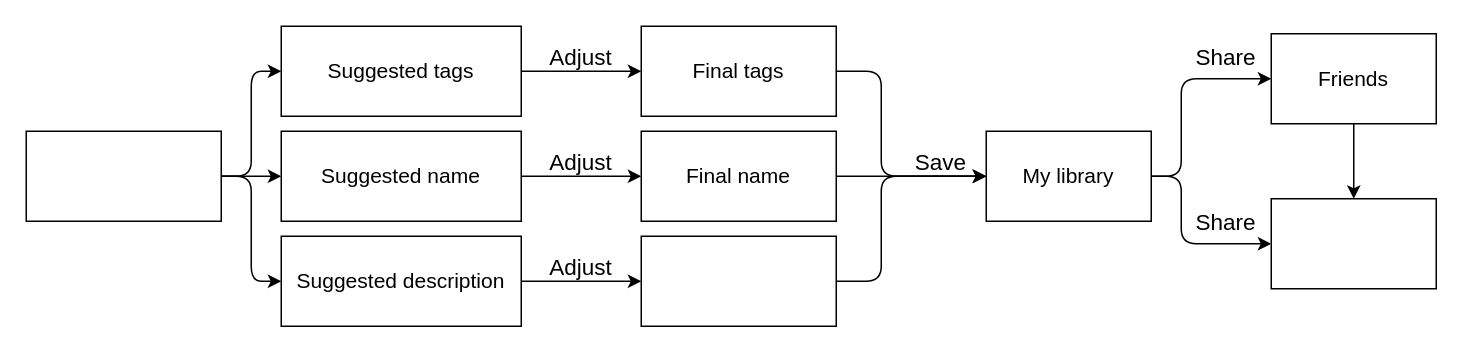
Some shapes in this 1463 by 353 pixel diagram are drawn without their labels. Each missing label, with the box of its shape:
Final description: (640, 235, 836, 326)
Parameter settings: (25, 130, 221, 221)
Public: (1270, 197, 1436, 289)
